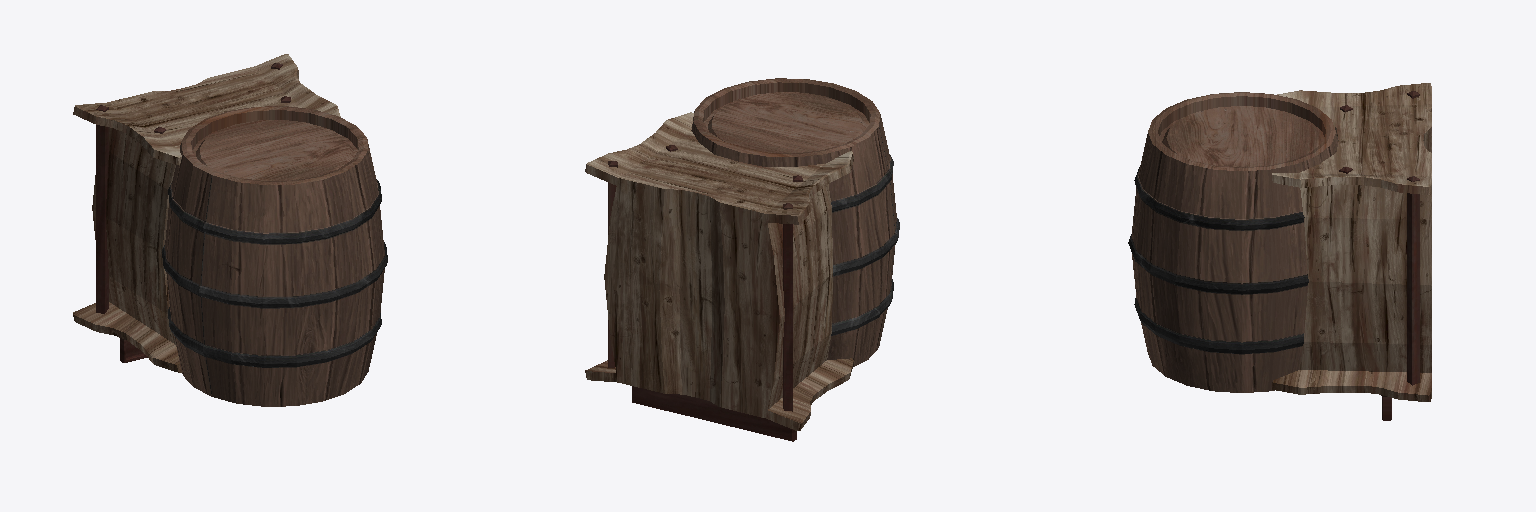
3 renders of one model, left to right at view 1: azimuth 30°, elevation 25°; view 2: azimuth 150°, elevation 25°; view 3: azimuth 270°, elevation 25°, orthographic.
Parts seen in each view (by area): view 1: CHESTSandTRUNKS; view 2: CHESTSandTRUNKS; view 3: CHESTSandTRUNKS.
Boxes of the visible parts, x1,y1,x2,y2 form: CHESTSandTRUNKS: [73, 54, 387, 406]; CHESTSandTRUNKS: [585, 78, 899, 441]; CHESTSandTRUNKS: [1128, 83, 1431, 420].
Bounding box in the file's own units: 2.1 × 2.32 × 2.54.
Materials: 1 (1 with a texture image).